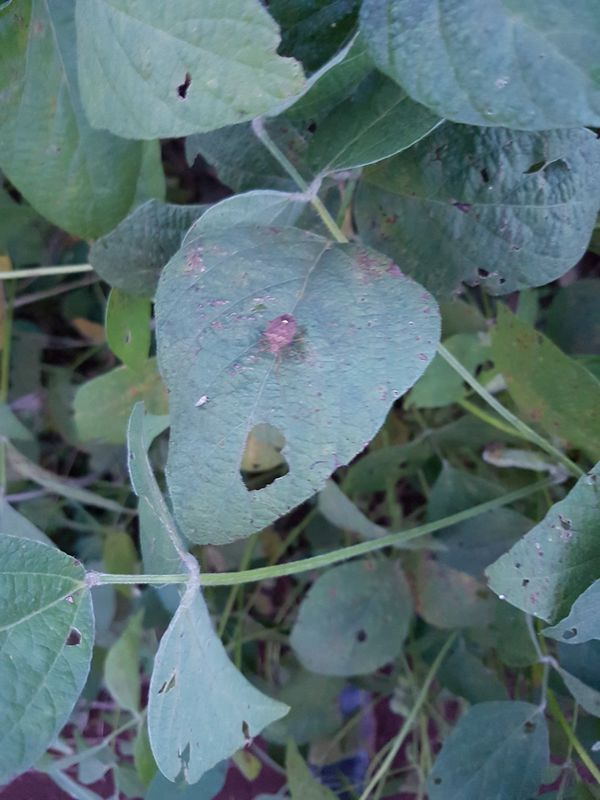Euschistus_heros_adulto: (248, 306, 313, 368)
